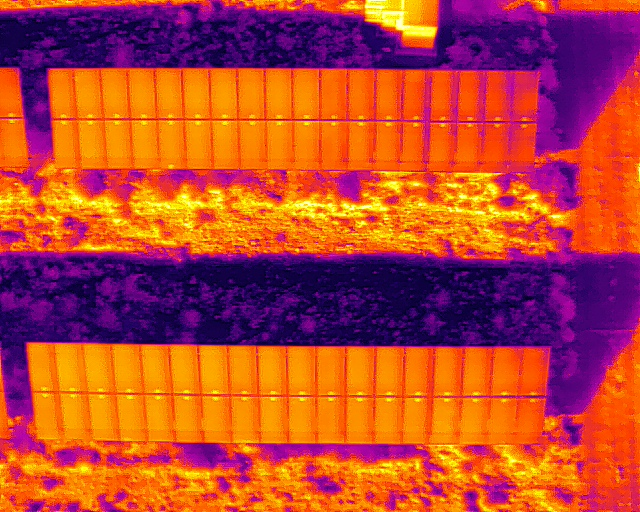photovoltaic_panels: (25, 340, 552, 447), (46, 66, 544, 174), (2, 66, 31, 170)
single_spot: (155, 118, 188, 170)
